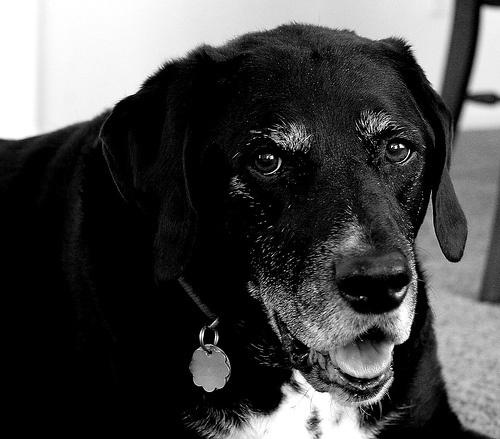dog: (1, 25, 469, 439)
